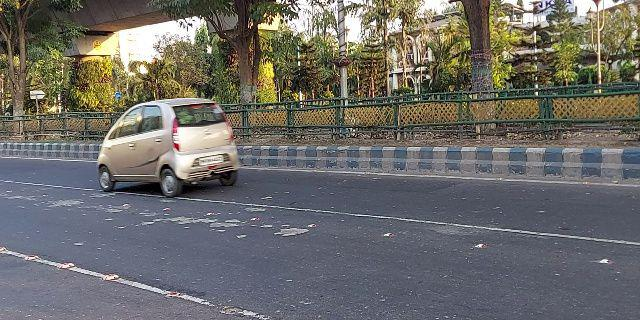Car: (97, 98, 243, 200)
